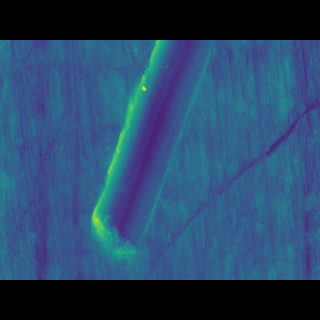Loch: (89, 69, 215, 237)
